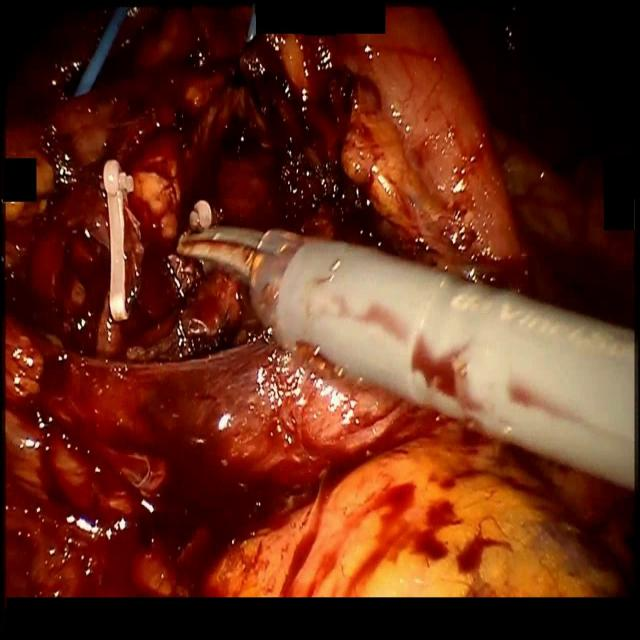surgical-area: (0, 0, 640, 606)
surgical-tool: (171, 220, 638, 493), (74, 0, 136, 94), (103, 157, 135, 322)
